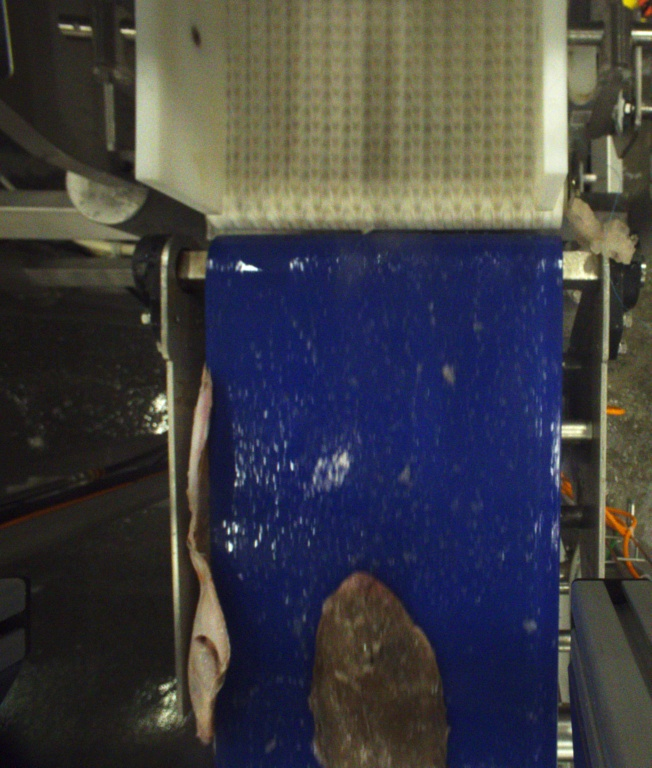SOL: (308, 573, 457, 768)
